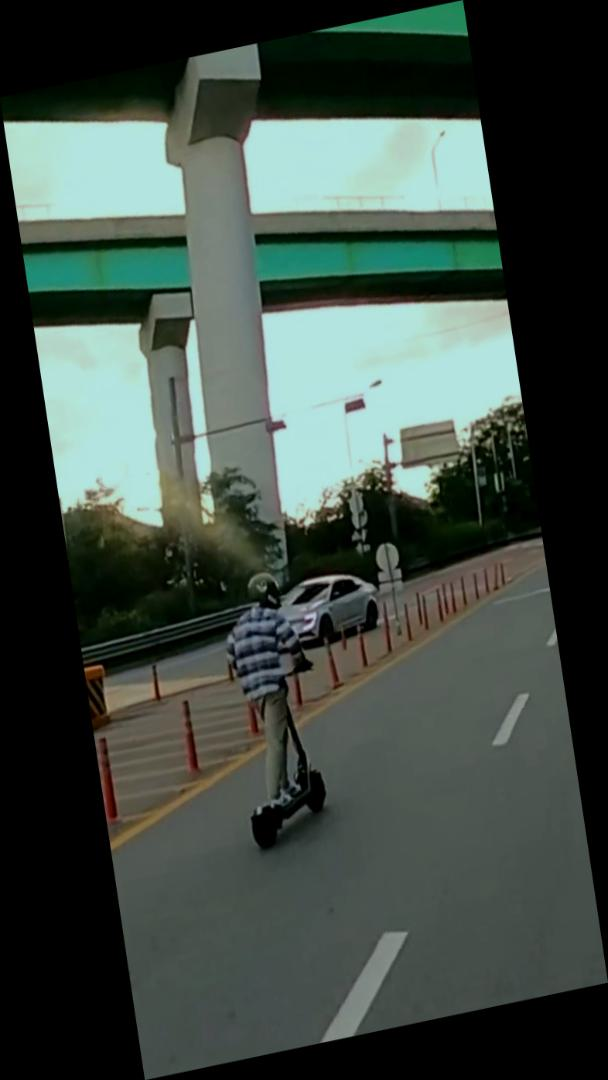helmet: (210, 563, 338, 850)
